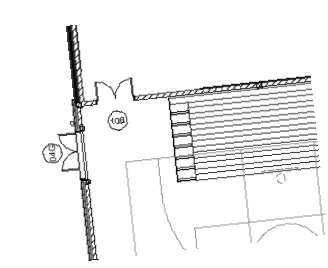double door: (92, 77, 137, 104), (56, 132, 83, 173)
